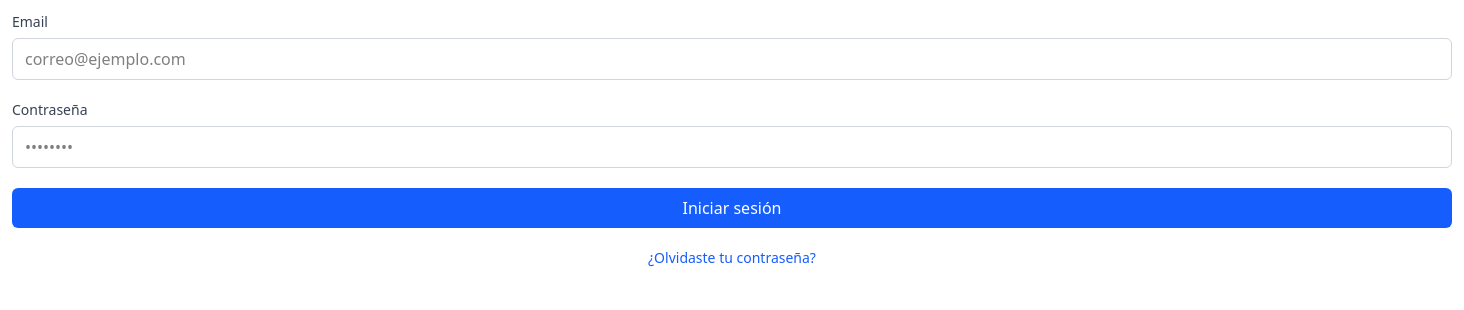
LoginForm › shows email validation error for invalid email
The width and height of the screenshot is (1464, 310).
# Use fireEvent.change to ensure value is set correctly in jsdom
In the field labelled "Email": (732, 59) [12, 38, 1452, 80], type "not-an-email"
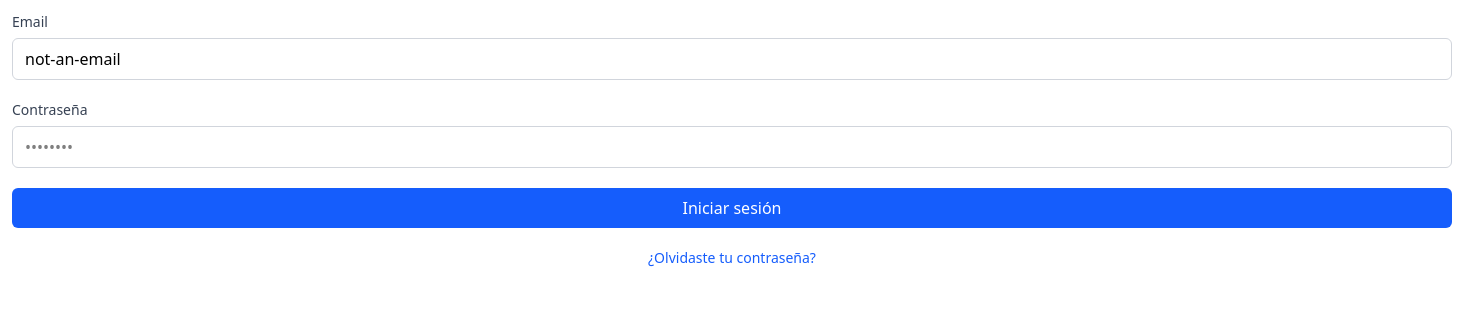
In the password field labelled "Contraseña": (732, 147) [12, 126, 1452, 168], type "password123"
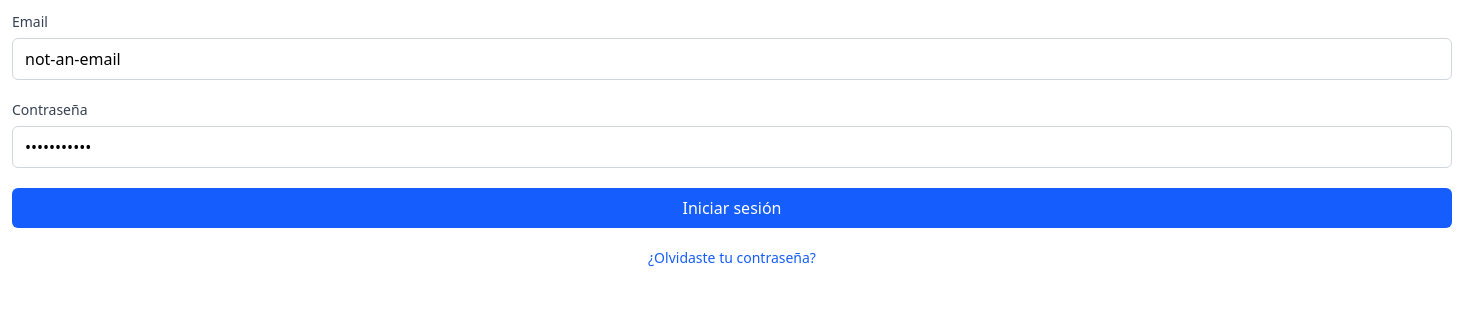
Submit the form "Email Contraseña Iniciar sesión ¿Olvidaste tu contraseña?"
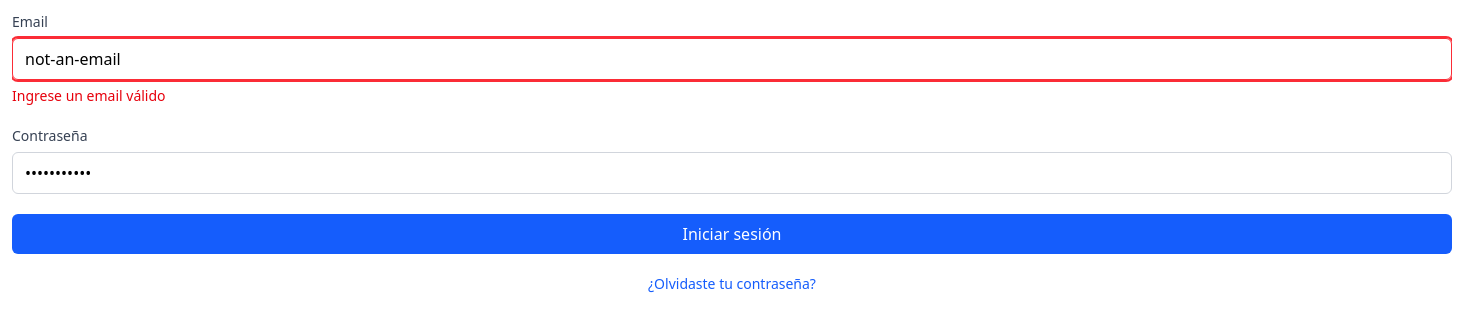
Expected: the text "Ingrese un email válido" is shown, [12, 86, 166, 105]
